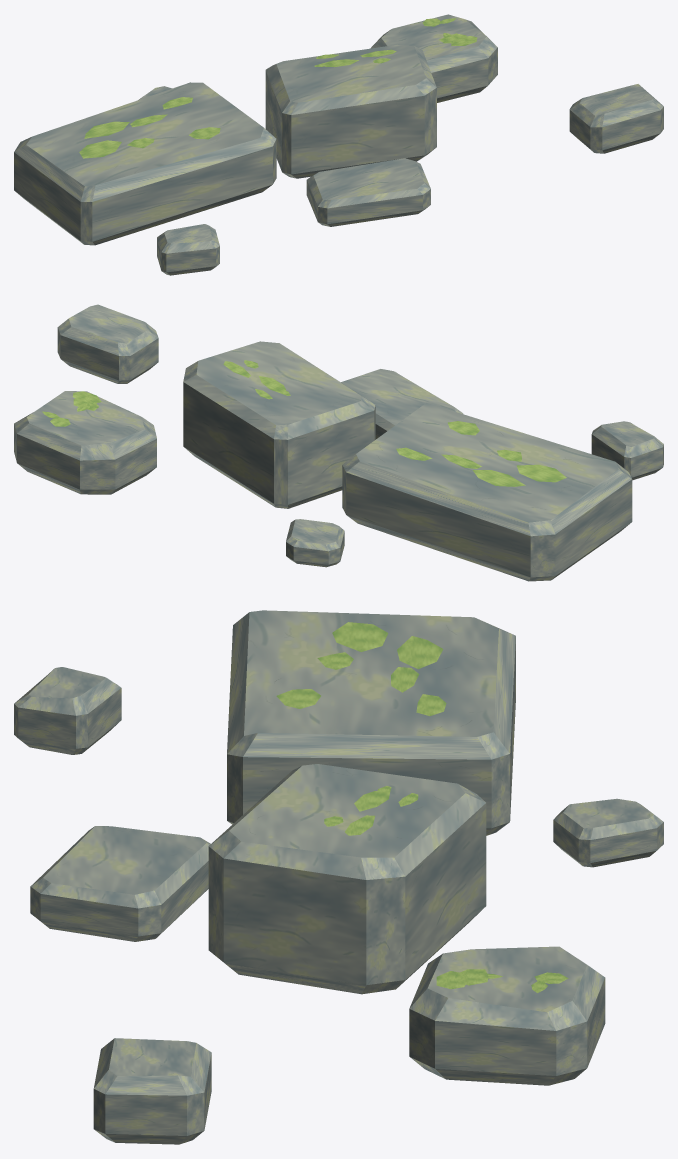
Rendered from WornStoneScatter.fbx.
The picture shows the model from 3 angles, top to bottom: view 1: azimuth 30°, elevation 25°; view 2: azimuth 150°, elevation 25°; view 3: azimuth 270°, elevation 25°; orthographic projection. The views are drawn at different scales.
Visible parts, largest first — view 1: WornStoneScatter; view 2: WornStoneScatter; view 3: WornStoneScatter.
Part boxes in pixels (x1,y1,x2,y2): WornStoneScatter: (14, 14, 663, 275); WornStoneScatter: (14, 304, 663, 581); WornStoneScatter: (14, 610, 663, 1144).
Bounding box in the file's own units: 426 × 69.2 × 252.
1 material, 1 textured.
